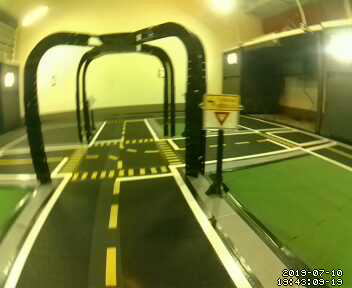Turn Yield: (201, 93, 242, 131)
